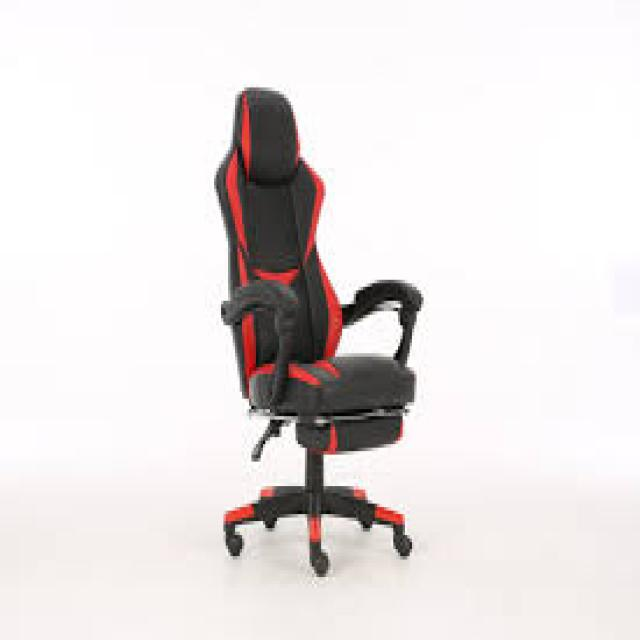chair: (130, 63, 469, 640)
